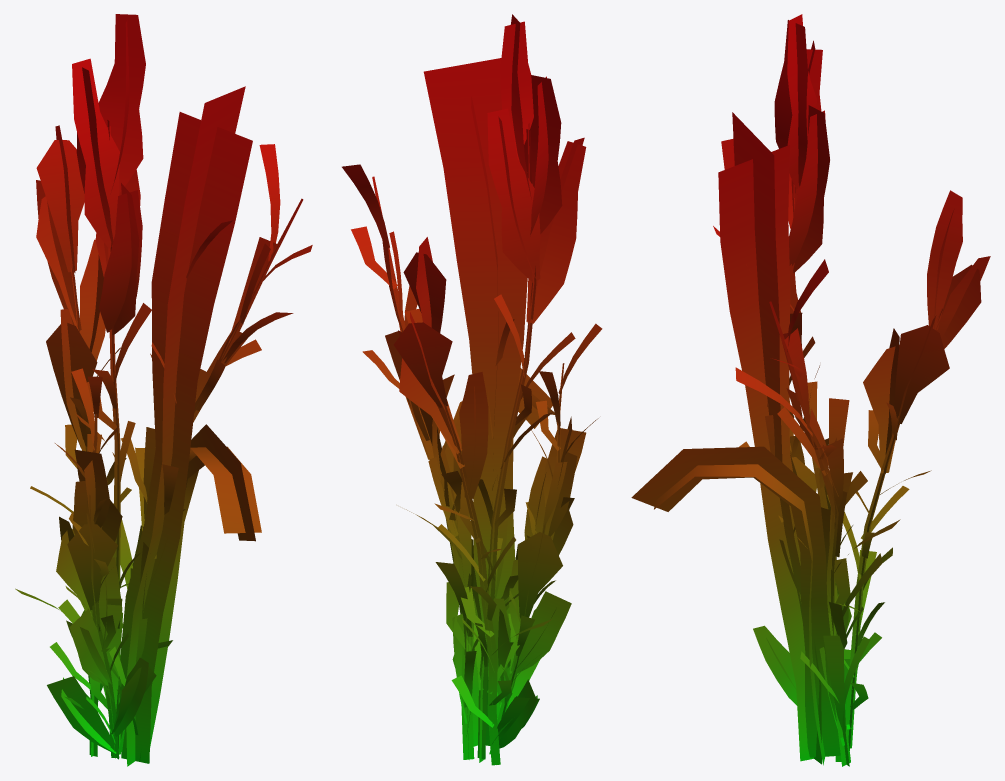
The model's file is F01_Seaweed_03.fbx.
3 renders of one model, left to right at view 1: azimuth 30°, elevation 25°; view 2: azimuth 150°, elevation 25°; view 3: azimuth 270°, elevation 25°, orthographic. The views are drawn at different scales.
Visible parts, largest first — view 1: _f20b_Var3_LOD1; view 2: _f20b_Var3_LOD1; view 3: _f20b_Var3_LOD1.
Boxes of the visible parts, x1,y1,x2,y2 form: _f20b_Var3_LOD1: (15,14,312,766); _f20b_Var3_LOD1: (342,14,602,765); _f20b_Var3_LOD1: (631,14,990,766).
Bounding box in the file's own units: 24.92 × 70.71 × 31.2.
